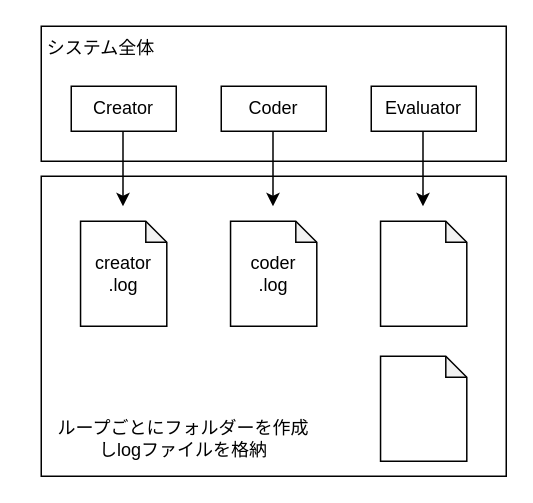
Some shapes in this 533 by 503 pixel diagram are drawn without their labels. Here are the shapes that lost their labels. From the top down, the centre of each, then its label:
At point 423,273: "evaluator .log".
At point 423,408: "model error.log".
